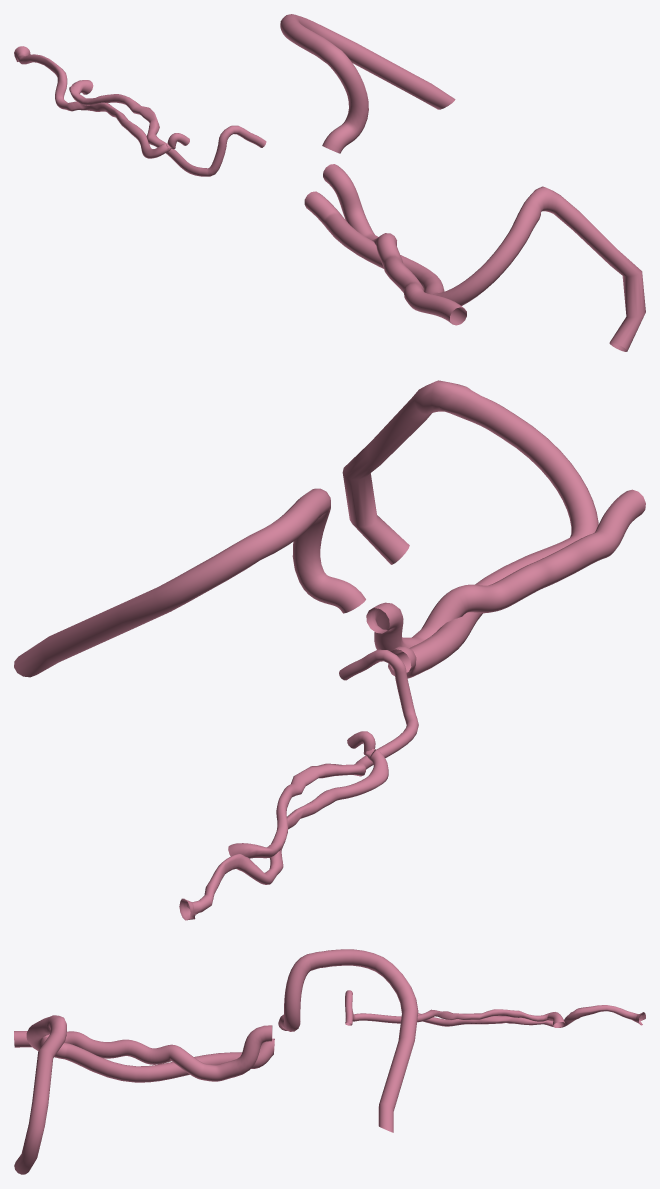
File: cable.obj
The picture shows the model from 3 angles, top to bottom: view 1: azimuth 30°, elevation 25°; view 2: azimuth 150°, elevation 25°; view 3: azimuth 270°, elevation 25°; orthographic projection. The views are drawn at different scales.
Visible parts, largest first — view 1: BezierCurve, BezierCurve.001; view 2: BezierCurve, BezierCurve.001; view 3: BezierCurve, BezierCurve.001.
Boxes of the visible parts, left/top/right/bottom form: BezierCurve: left=280, top=14, right=645, bottom=351; BezierCurve.001: left=14, top=46, right=266, bottom=176; BezierCurve: left=14, top=380, right=645, bottom=678; BezierCurve.001: left=179, top=649, right=418, bottom=920; BezierCurve: left=14, top=949, right=418, bottom=1174; BezierCurve.001: left=345, top=990, right=645, bottom=1027.
Bounding box in the file's own units: 1.67 × 1.16 × 3.8.
